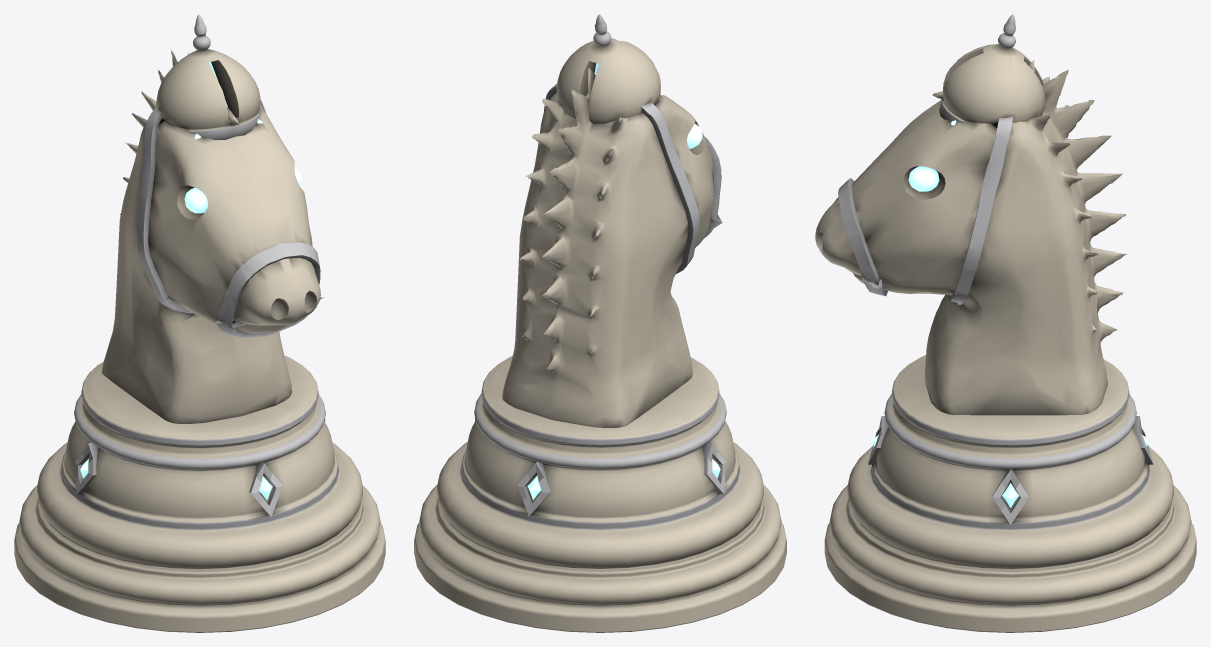
The model's file is knibis.glb.
3 views of the same model, side by side, from view 1: azimuth 30°, elevation 25°; view 2: azimuth 150°, elevation 25°; view 3: azimuth 270°, elevation 25° (orthographic).
Parts seen in each view (by area): view 1: knibis; view 2: knibis; view 3: knibis.
Boxes of the visible parts, bbox=[...] form: knibis: bbox=[14, 14, 385, 632]; knibis: bbox=[414, 14, 786, 632]; knibis: bbox=[815, 14, 1196, 632].
Size of the model in its own units: 0.74 by 1.19 by 0.7586.
